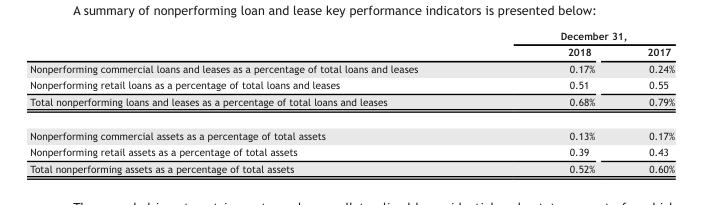table: (29, 29, 674, 173)
table column: (29, 29, 488, 173), (488, 29, 620, 173), (620, 29, 674, 173)
table column header: (29, 29, 674, 59)
table row: (29, 92, 674, 118), (29, 118, 674, 143), (29, 59, 674, 76), (29, 43, 674, 59), (29, 76, 674, 92), (29, 143, 674, 159), (29, 29, 674, 43), (29, 159, 674, 173)
table spanning cell: (488, 29, 674, 43)
